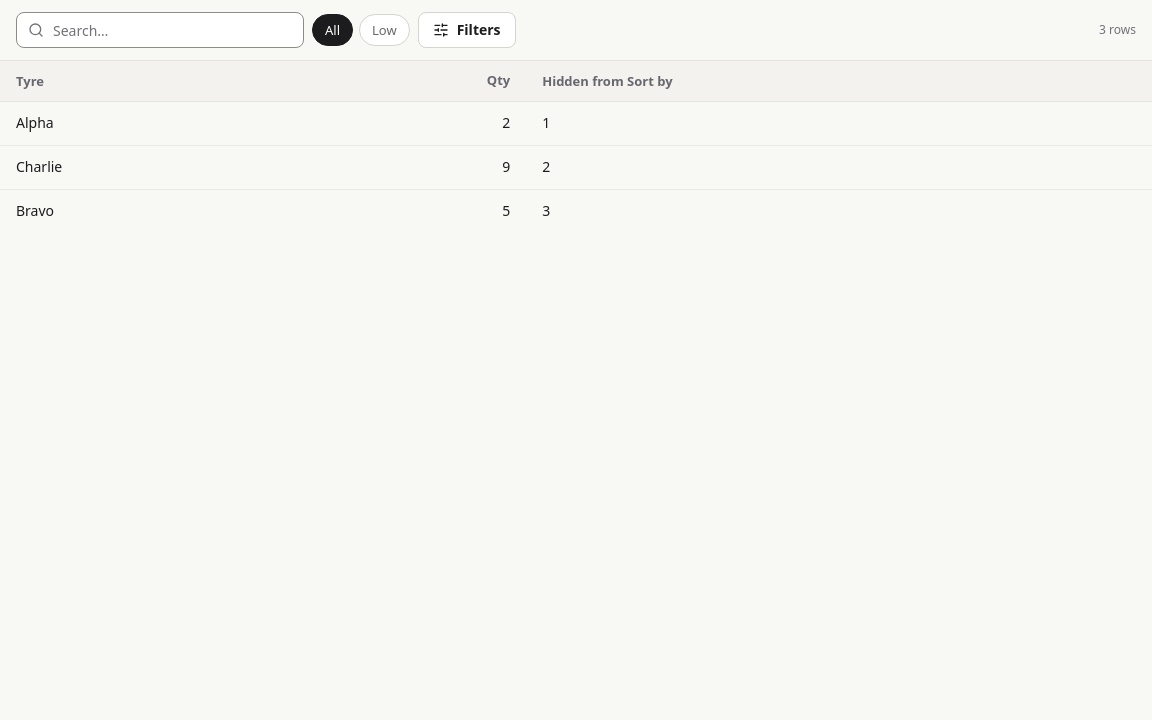
it: DataTable filters on a phone › opens a sheet with visible labels, counts active filters and clears them
The width and height of the screenshot is (1152, 720).
Click the button "Filters" at (467, 30), box [418,12,516,48]
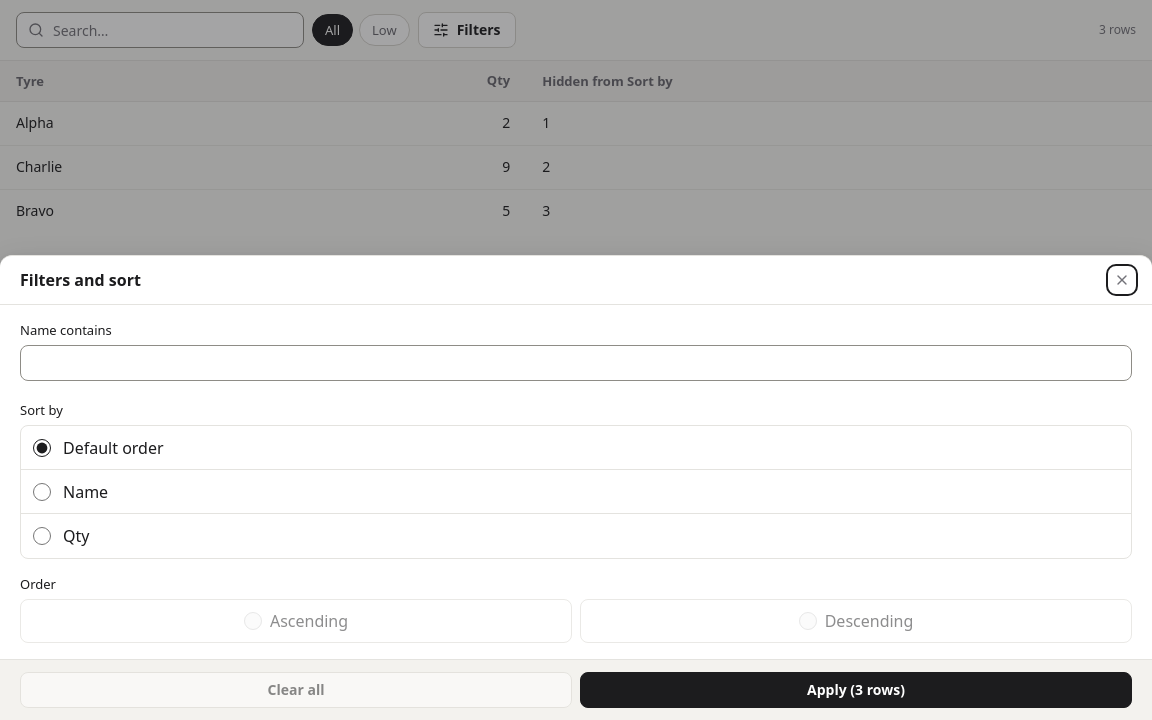
Now the text "Name contains" is shown, box [20,321,112,339]
Type "Br" into the field named "Name contains" at (576, 363), box [20,345,1132,381]
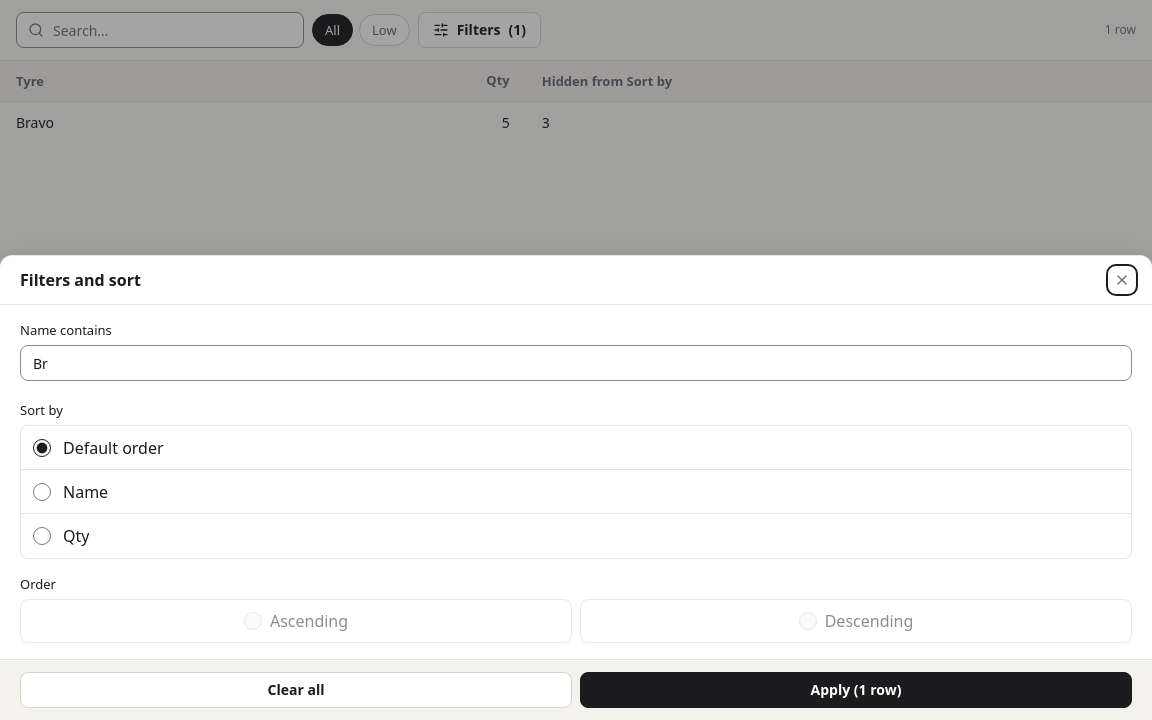
Now the button "Apply (1 row)" is shown
Click the button "Apply (1 row)" at (856, 690), box [580,672,1132,708]
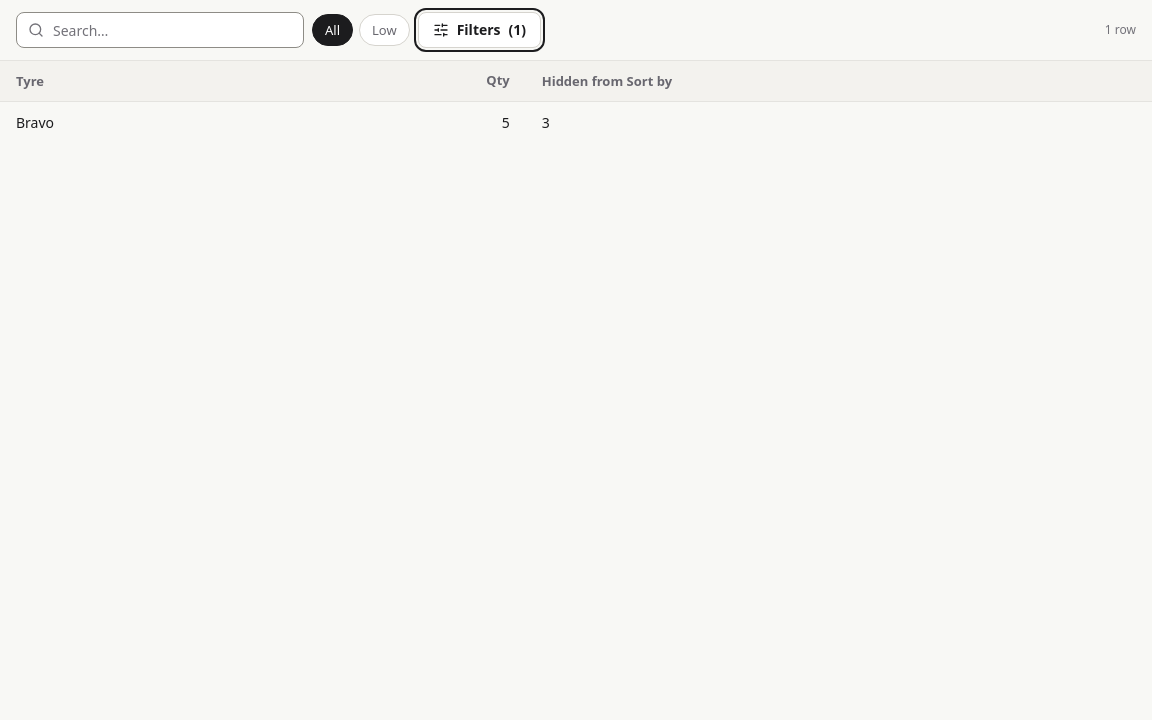
Now the button "Filters (1)" is shown
Now the dialog is gone
Click the button "Filters (1)" at (479, 30), box [418,12,541,48]
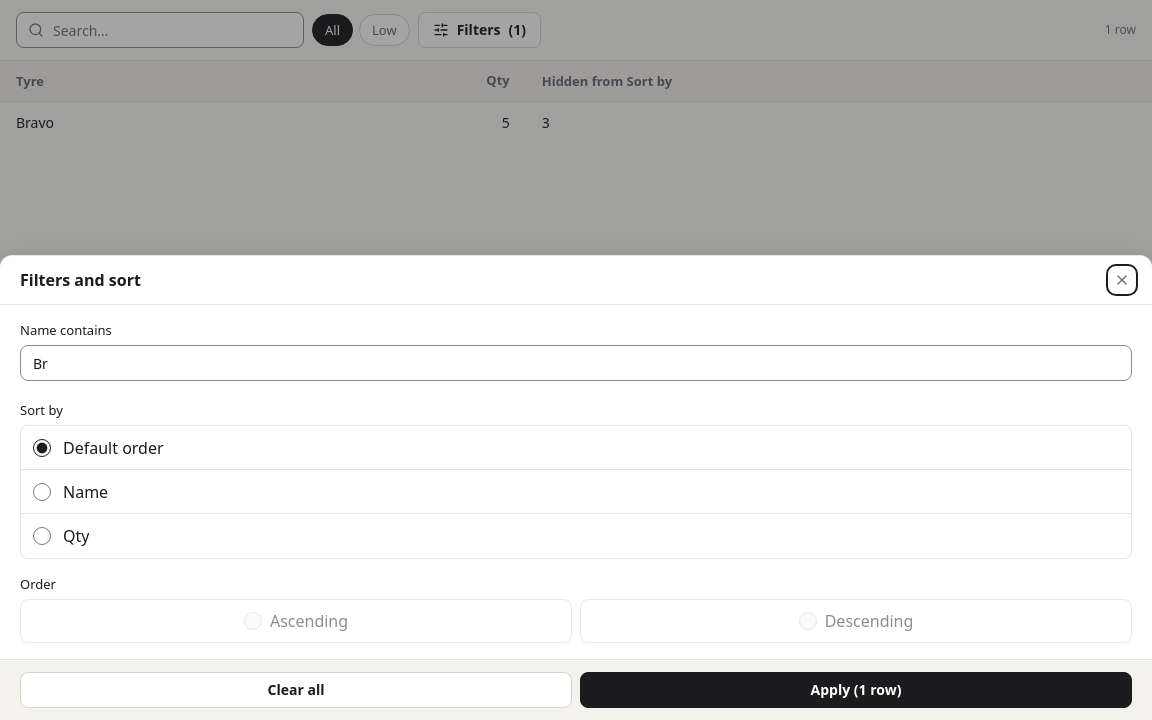
Click the button "Clear all" at (296, 690), box [20,672,572,708]
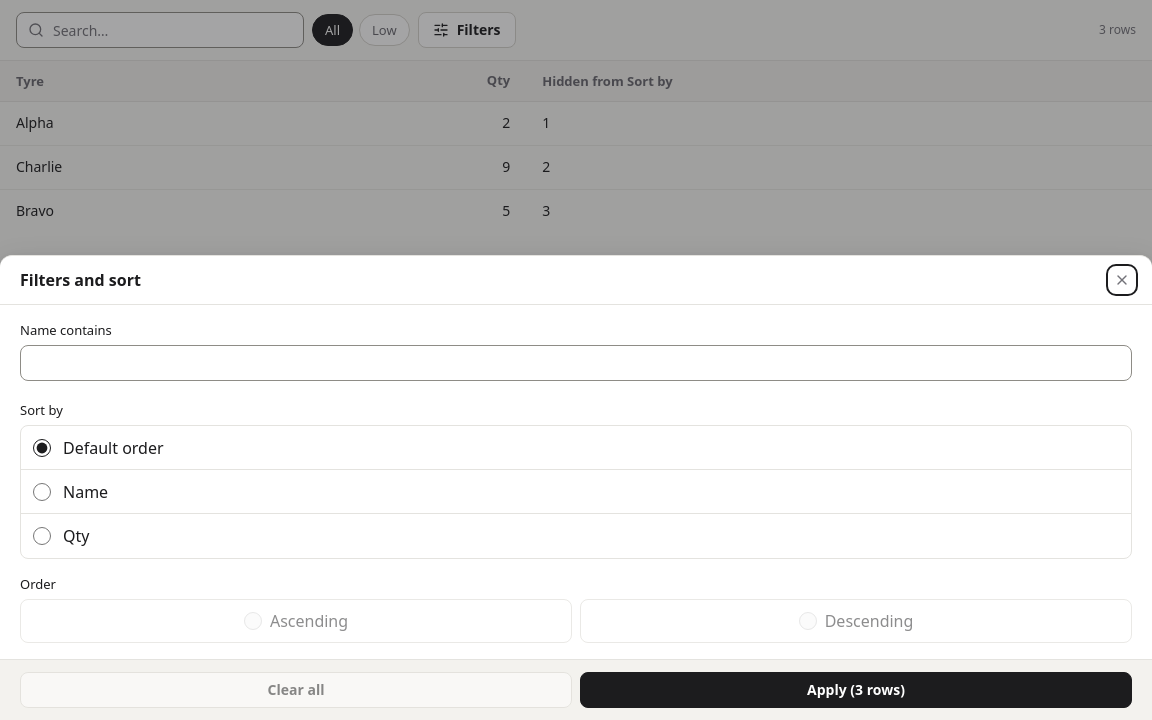
Now the field named "Name contains" is empty, box [20,345,1132,381]
